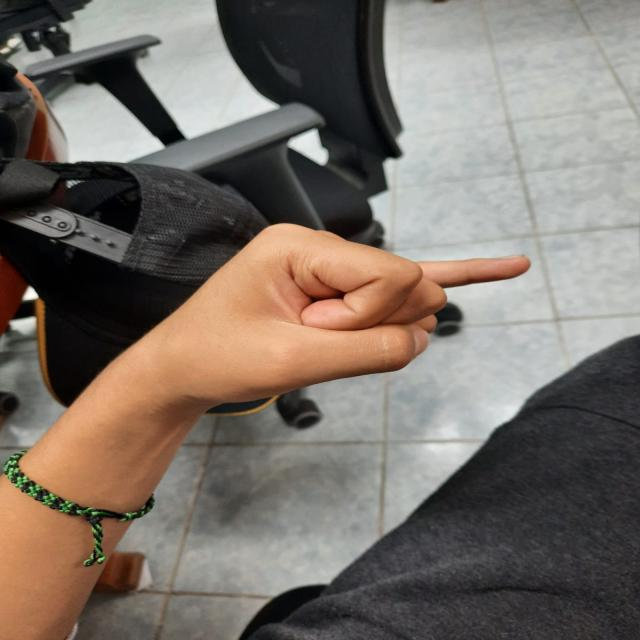Z: (106, 209, 556, 452)
